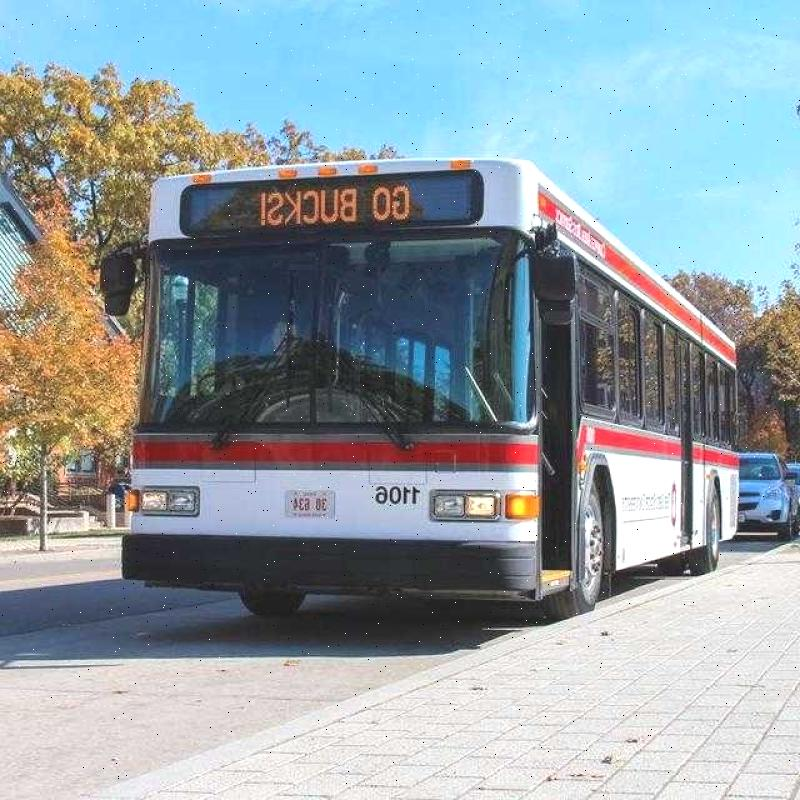bus: (108, 136, 723, 647)
